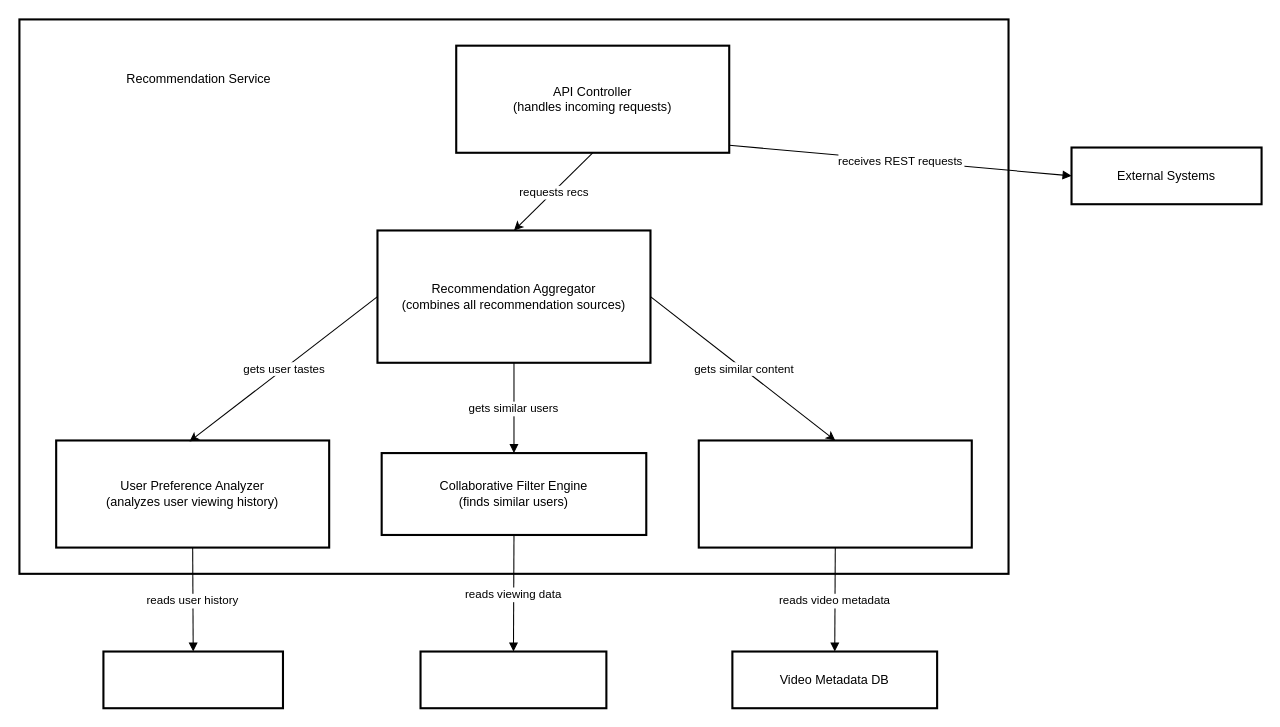
This 1280x727 diagram has some shape labels left out. The box of each missing label's shape, as (x1, y1, x2, y2) in pixels:
Content-Based Filter (recommends based on content): (697, 439, 972, 548)
User History DB: (102, 650, 284, 709)
Viewing Data DB: (419, 650, 607, 709)
